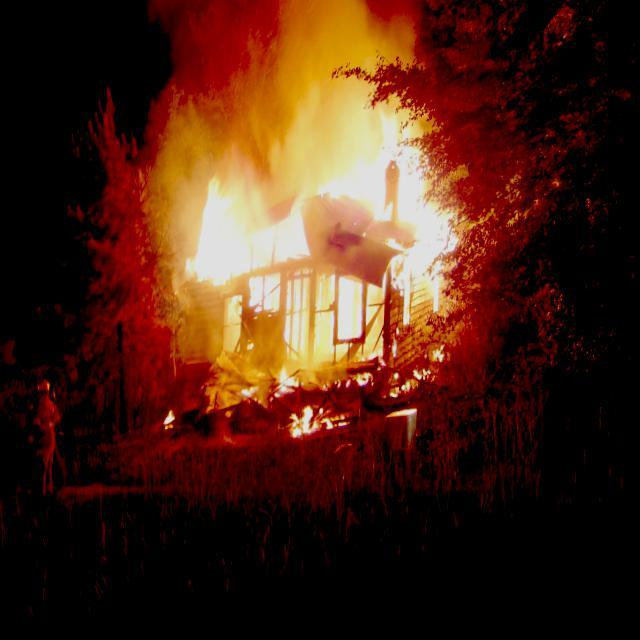Fire: (177, 116, 488, 466)
